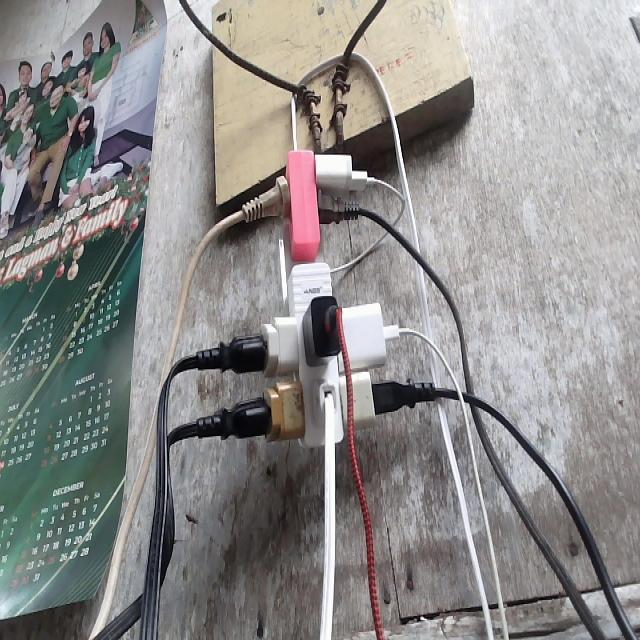-: (188, 147, 439, 444)
